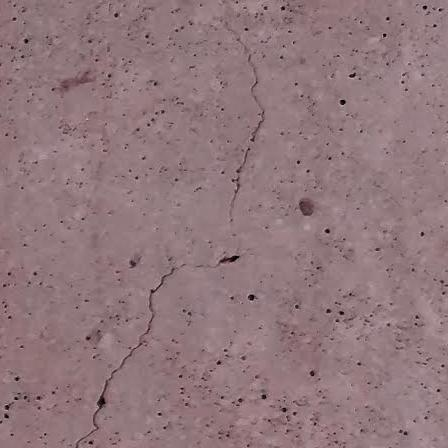crack: (43, 226, 241, 448), (224, 26, 267, 239)
